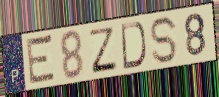8: (59, 28, 86, 82), (183, 12, 208, 58)
D: (120, 20, 148, 71)
E: (25, 33, 58, 88)
S: (149, 14, 180, 66)
Z: (88, 26, 119, 76)
